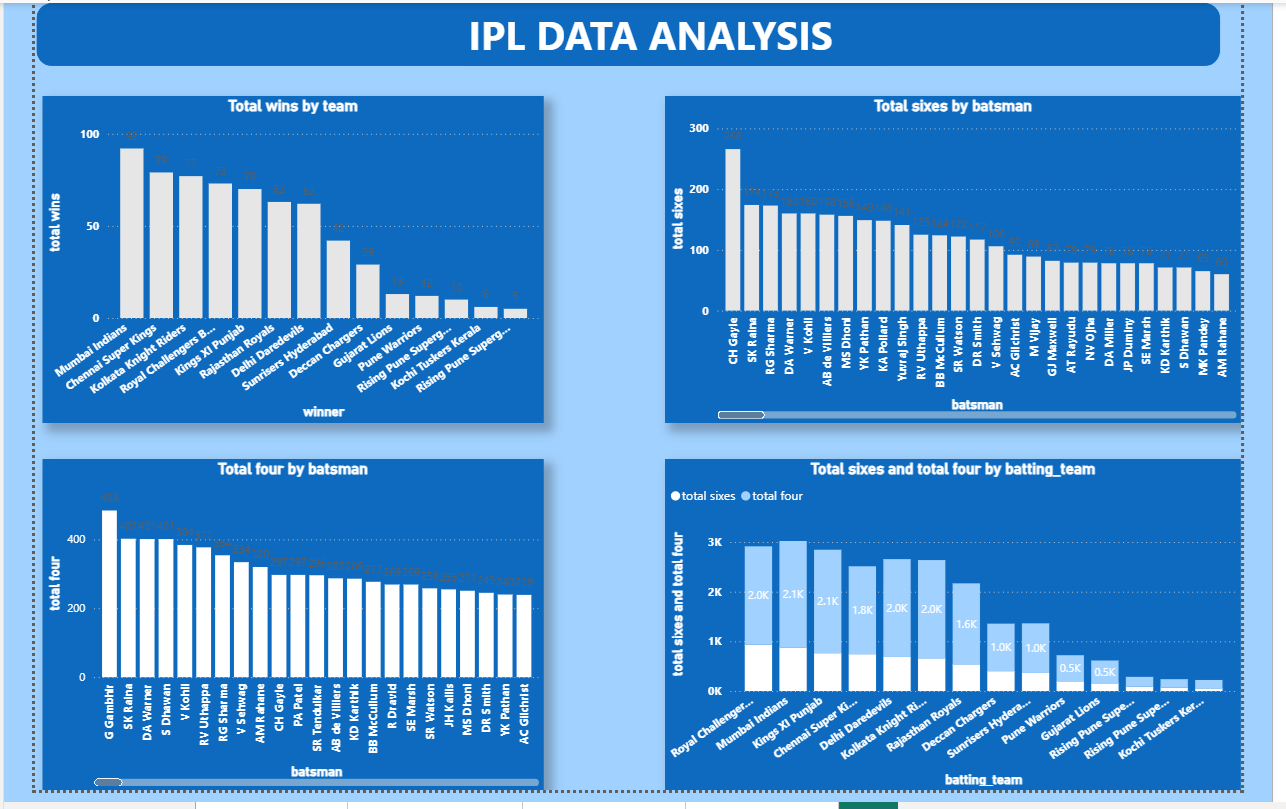

Layout of this report page (visuals, bound fields, positions):
{"tool":"powerbi","page":{"name":"Team Analysis","canvas":[1305,852],"ordinal":1},"visuals":[{"type":"columnChart","title":"Total wins by team","fields":{"Category":["matches (1) csv.winner"],"Y":["matches (1) csv.total wins"]},"box":[8.1,100.7,542.4,354],"z":0},{"type":"columnChart","title":"Total sixes by batsman","fields":{"Category":["deliveries csv.batsman"],"Y":["deliveries csv.total sixes"]},"box":[682,100.7,623.6,354],"z":1000},{"type":"columnChart","title":"Total four by batsman","fields":{"Category":["deliveries csv.batsman"],"Y":["deliveries csv.total four"]},"box":[8.1,493.7,542.4,358.9],"z":2000},{"type":"columnChart","title":"Total sixes and total four by batting_team","fields":{"Category":["deliveries csv.batting_team"],"Y":["deliveries csv.total sixes","deliveries csv.total four"]},"box":[682,493.7,623.6,358.9],"z":3000},{"type":"shape","box":[1.6,0,1281.3,68.2],"z":4000},{"type":"textbox","box":[464.4,0,451.4,68.2],"z":5000}]}

Visuals, with their boxes on the page's 1305x852 design canvas (x1, y1, x2, y2). These are canvas units, not pixel positions in the 1286x809 screenshot, which may show the page scaled, cropped or inside an application window:
"Total wins by team" columnChart: 8 101 550 455
"Total sixes by batsman" columnChart: 682 101 1306 455
"Total four by batsman" columnChart: 8 494 550 853
"Total sixes and total four by batting_team" columnChart: 682 494 1306 853
shape: 2 0 1283 68
textbox: 464 0 916 68
